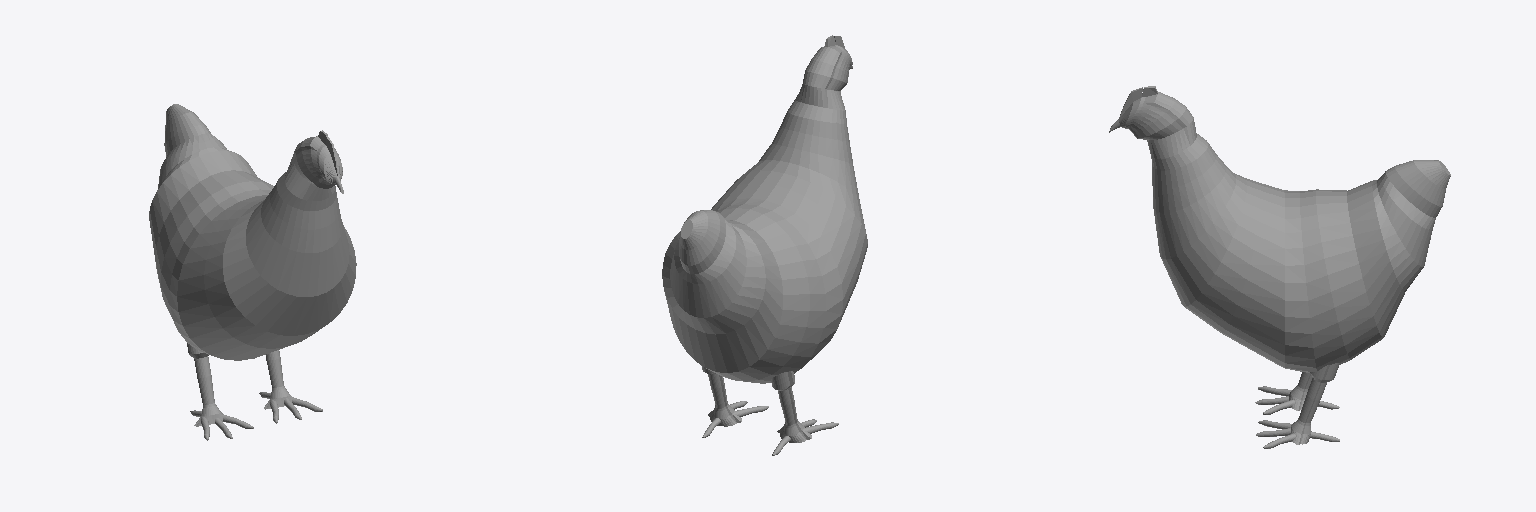
Rendered from galinha.obj.
3 views of the same model, side by side, from view 1: azimuth 30°, elevation 25°; view 2: azimuth 150°, elevation 25°; view 3: azimuth 270°, elevation 25° (orthographic).
Parts seen in each view (by area): view 1: Cilindro_Cilindro.001, Cilindro.001_Cilindro, Cilindro.010; view 2: Cilindro_Cilindro.001, Cilindro.001_Cilindro, Cilindro.010; view 3: Cilindro_Cilindro.001, Cilindro.010, Cilindro.001_Cilindro.
Boxes of the visible parts, x1,y1,x2,y2 form: Cilindro_Cilindro.001: [149, 104, 356, 360]; Cilindro.001_Cilindro: [187, 343, 253, 440]; Cilindro.010: [259, 350, 322, 423]; Cilindro_Cilindro.001: [662, 35, 867, 383]; Cilindro.001_Cilindro: [771, 371, 838, 455]; Cilindro.010: [701, 365, 768, 437]; Cilindro_Cilindro.001: [1109, 86, 1450, 372]; Cilindro.010: [1256, 363, 1339, 448]; Cilindro.001_Cilindro: [1255, 372, 1339, 414].
Size of the model in its own units: 0.5256 by 1.11 by 1.01.